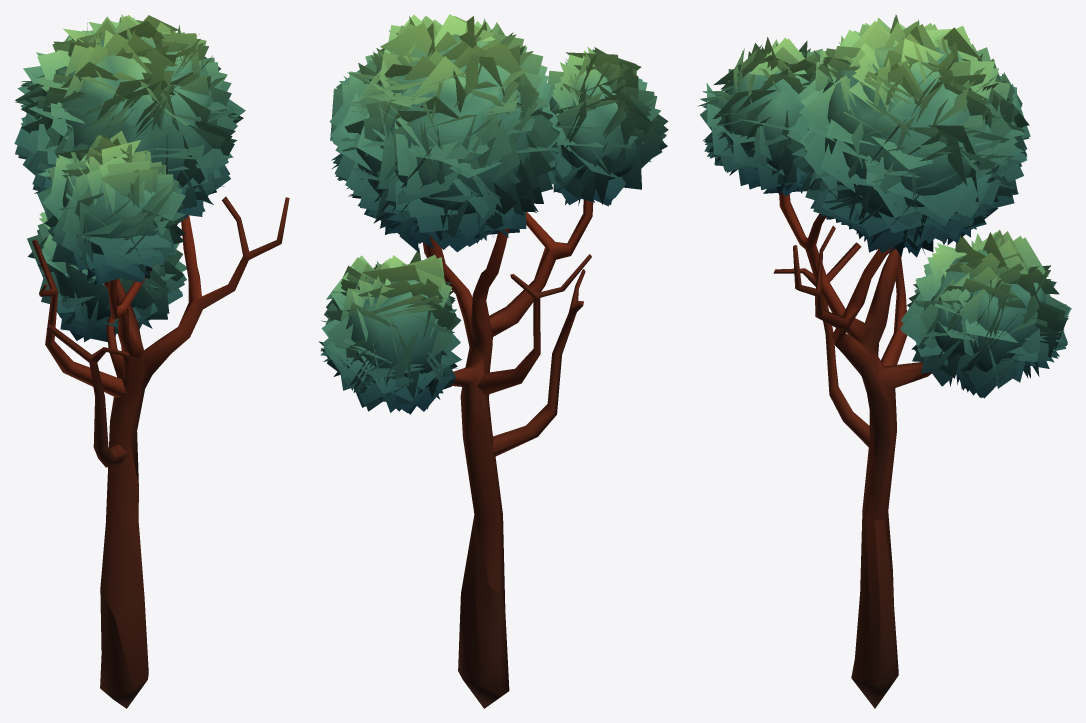
The model's file is Forest_Tree_4D.fbx.
3 views of the same model, side by side, from view 1: azimuth 30°, elevation 25°; view 2: azimuth 150°, elevation 25°; view 3: azimuth 270°, elevation 25° (orthographic). The views are drawn at different scales.
Parts seen in each view (by area): view 1: Forest_Tree_4D; view 2: Forest_Tree_4D; view 3: Forest_Tree_4D.
Boxes of the visible parts, box(x1,y1,x2,y2) form: Forest_Tree_4D: box(14, 14, 289, 708); Forest_Tree_4D: box(318, 14, 668, 708); Forest_Tree_4D: box(698, 14, 1071, 708).
Bounding box in the file's own units: 333 × 862 × 423.
